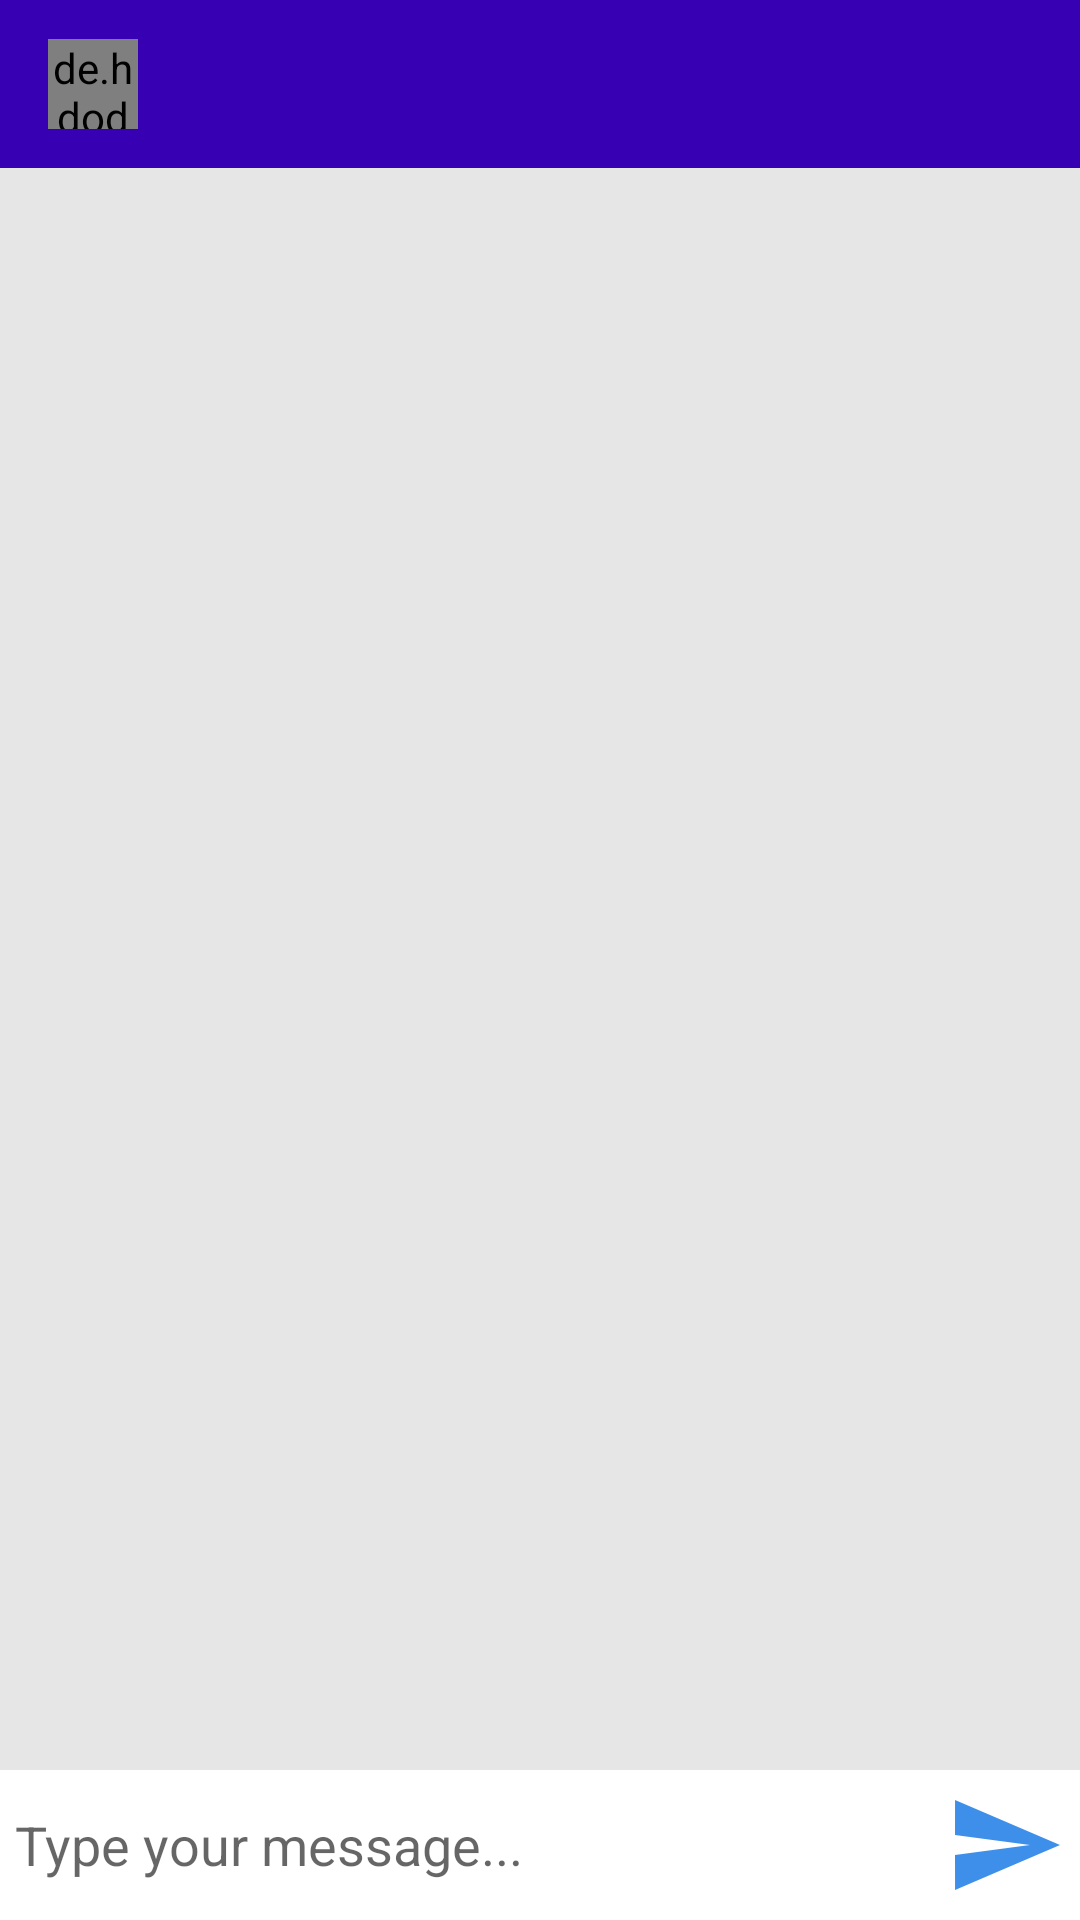

Icons on this 1080w x 1920h Android screen, each with its box as bbox=(x1, y1, x2, y2):
send: bbox=(955, 1800, 1060, 1890)
